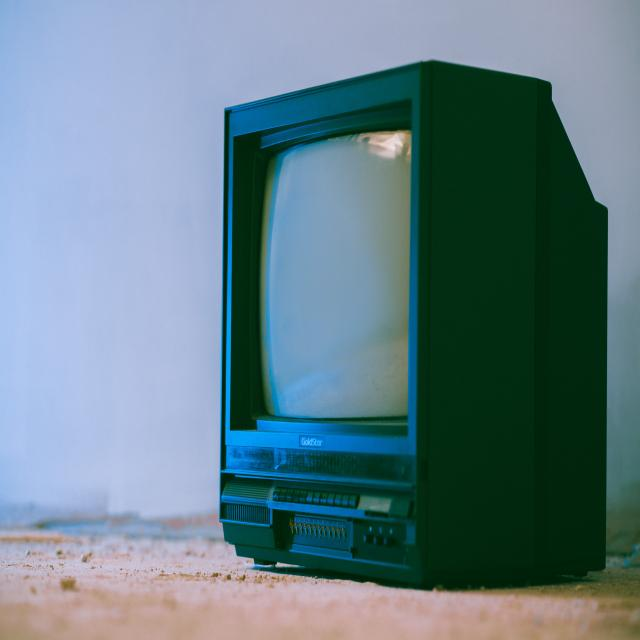television: (219, 97, 575, 606)
